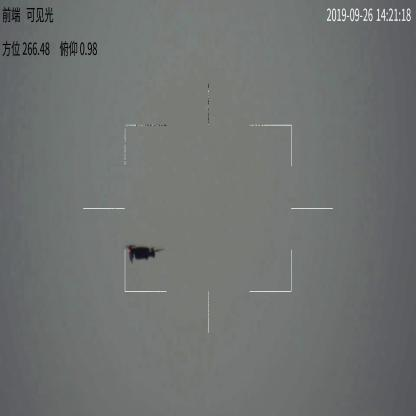uav: (124, 240, 166, 265)
